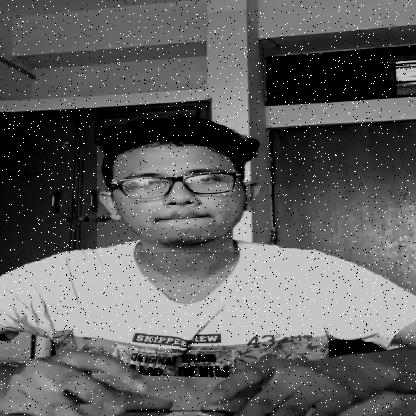Normal: (97, 146, 250, 252)
